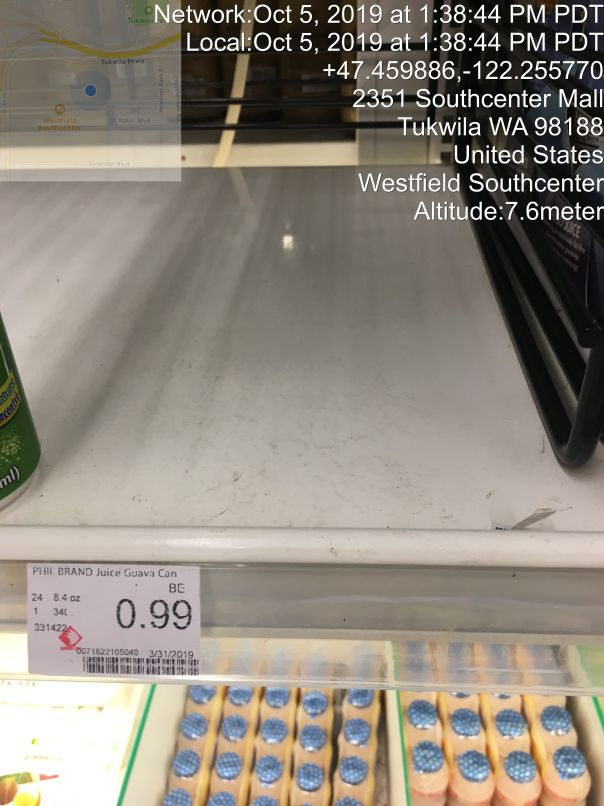Label: (16, 549, 235, 690)
Location: (347, 83, 604, 200)
Time: (145, 1, 604, 55)
Void: (104, 147, 476, 505)
